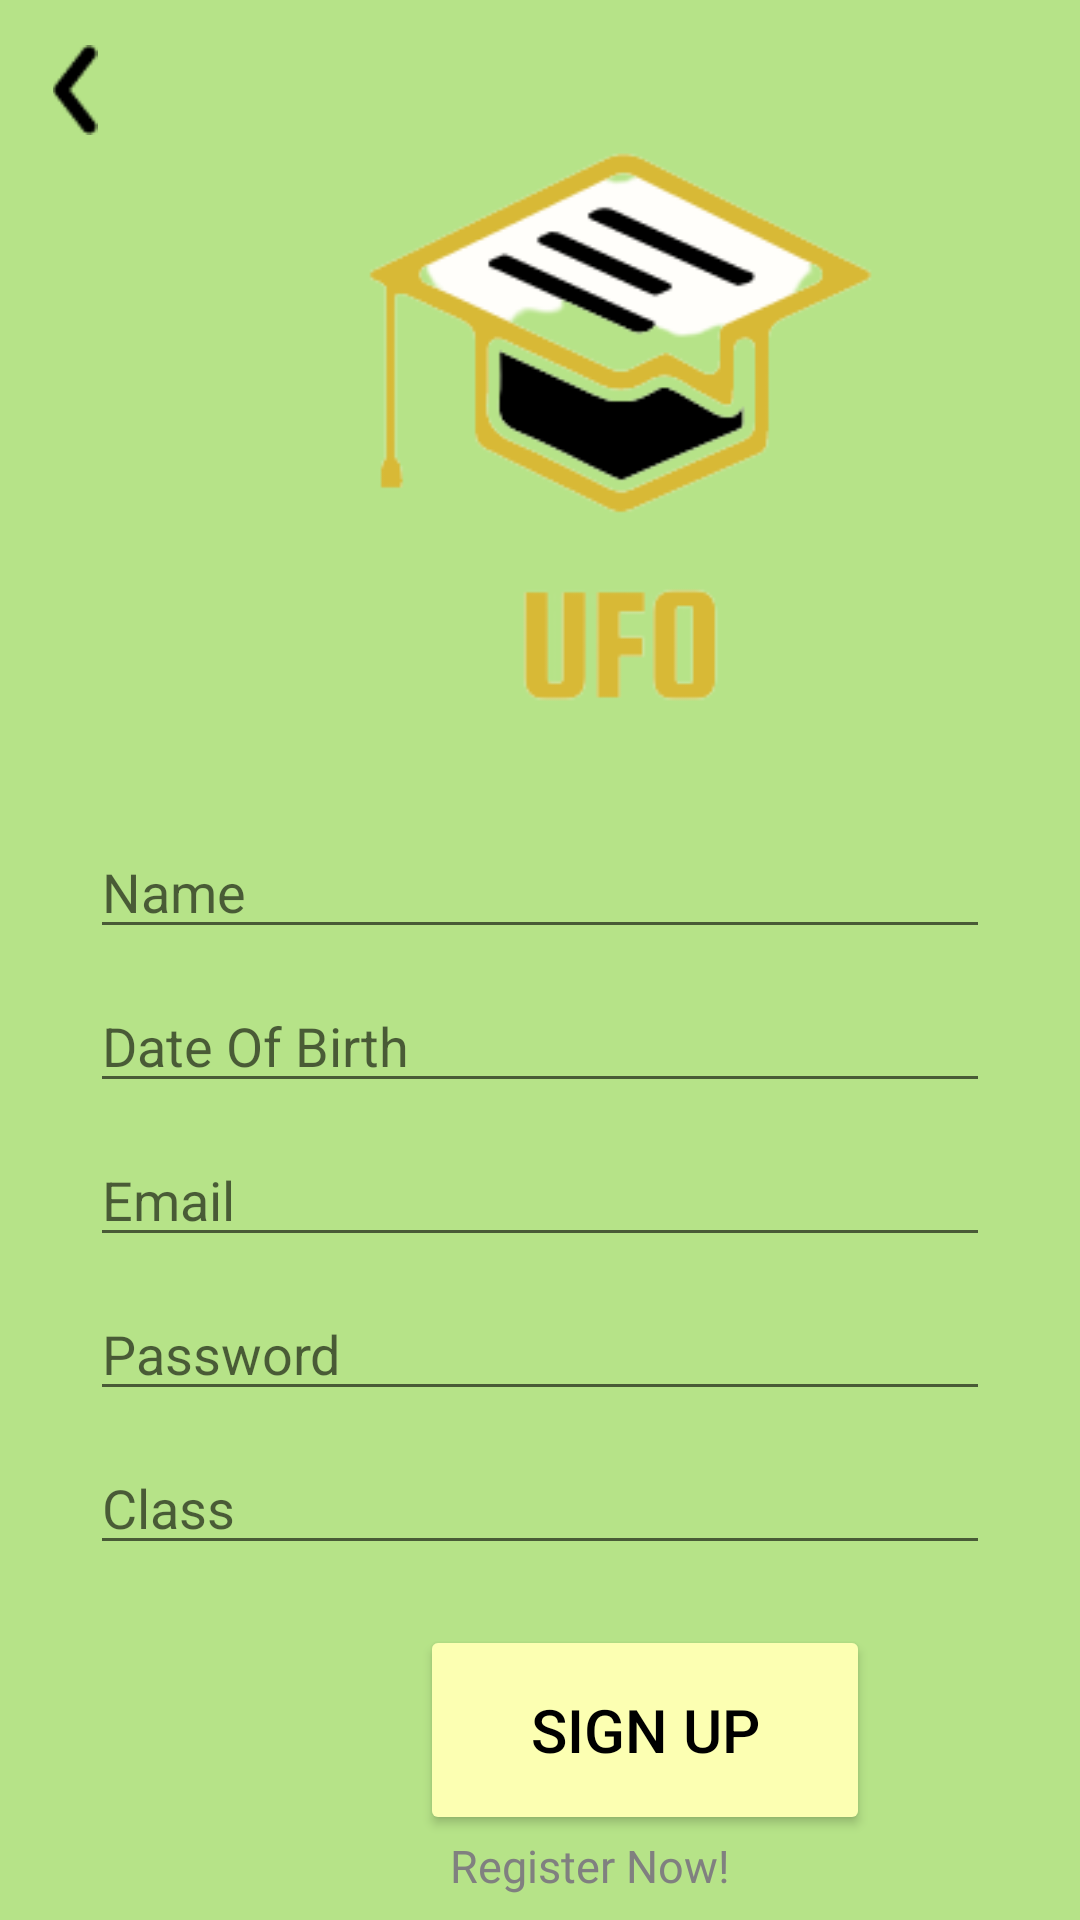

Named icons in this screenshot (1080×1920) and their centers, (x,y):
back: (75,90)
